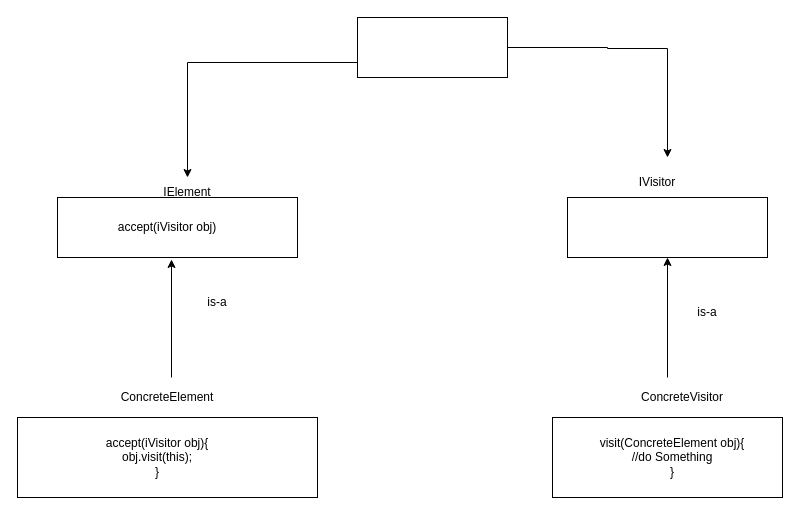
The diagram is 800 pixels wide and 515 high, and some of its shapes have lost their labels. Each missing label, with the box of its shape:
Client: (356, 16, 508, 78)
visit(ConcreteElement obj): (566, 196, 768, 258)
